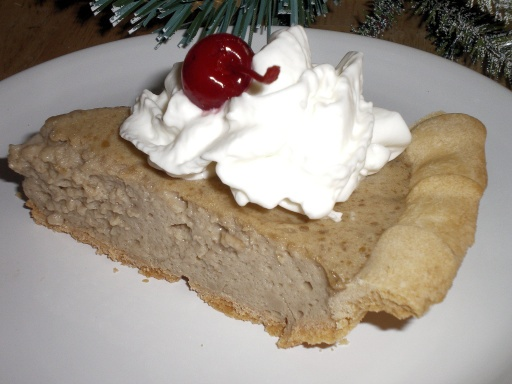background: (6, 14, 390, 209)
